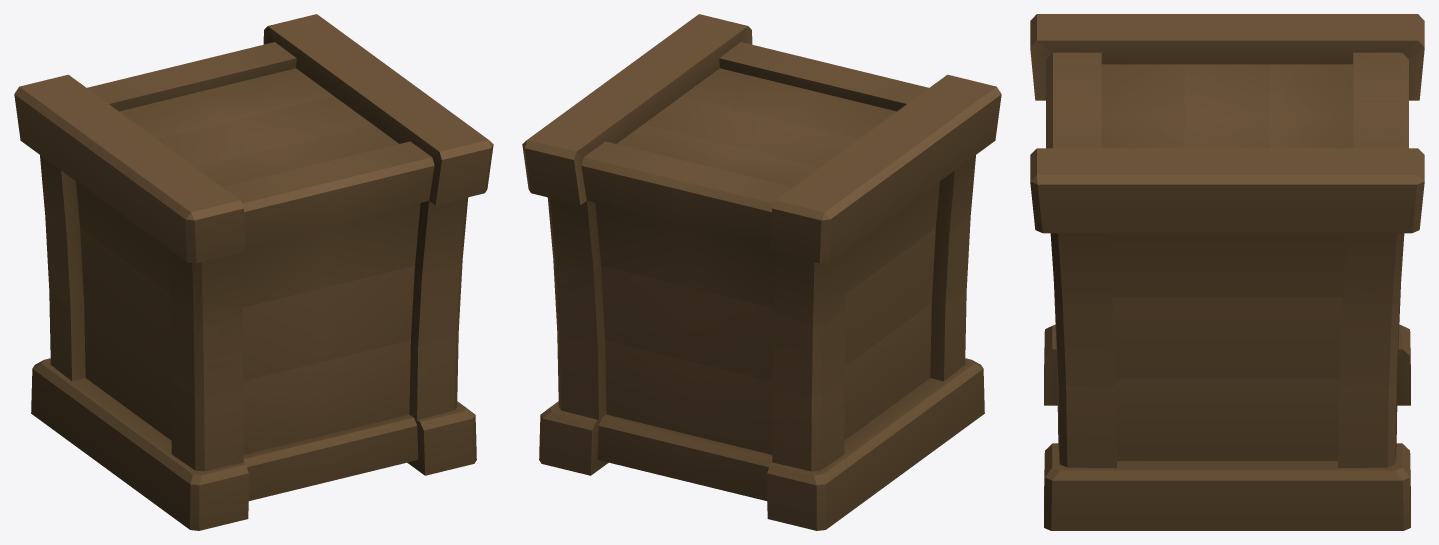
Rendered from SM_EN_Crate_1.fbx.
3 views of the same model, side by side, from view 1: azimuth 30°, elevation 25°; view 2: azimuth 150°, elevation 25°; view 3: azimuth 270°, elevation 25° (orthographic). The views are drawn at different scales.
Parts seen in each view (by area): view 1: SM_EN_Crate_1; view 2: SM_EN_Crate_1; view 3: SM_EN_Crate_1.
Part boxes in pixels (<box>): SM_EN_Crate_1: <box>14,14,493,530</box>; SM_EN_Crate_1: <box>522,14,1001,530</box>; SM_EN_Crate_1: <box>1030,14,1424,530</box>.
Bounding box in the file's own units: 99.66 × 99.66 × 100.
